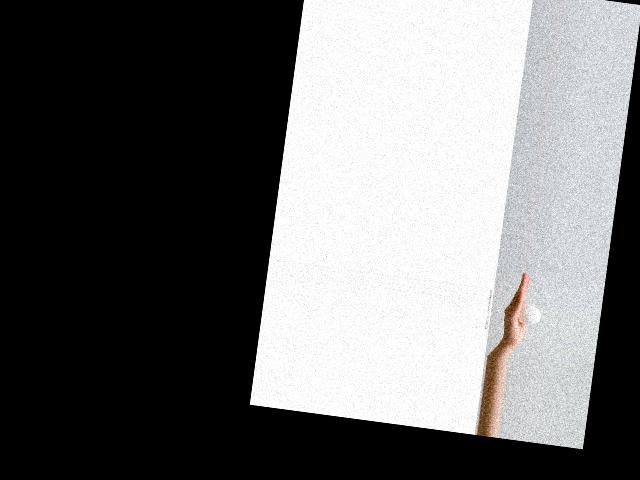egg: (517, 304, 542, 325)
